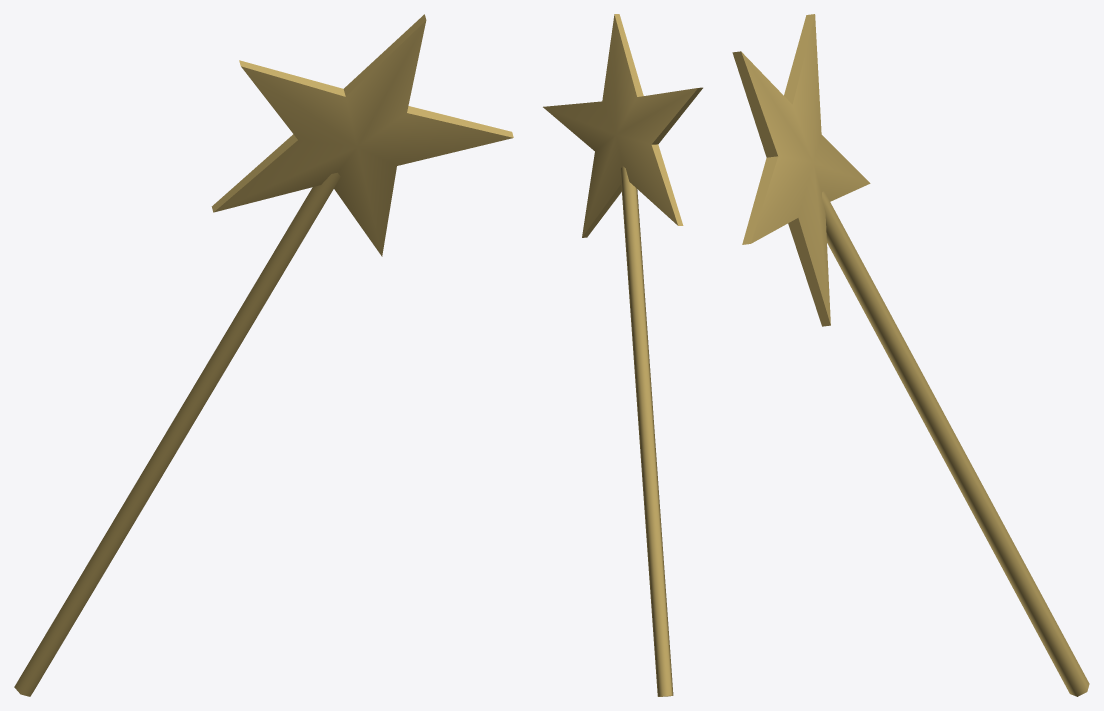
File: Asset_plateforme_baguette.fbx
The picture shows the model from 3 angles, left to right: view 1: azimuth 30°, elevation 25°; view 2: azimuth 150°, elevation 25°; view 3: azimuth 270°, elevation 25°; orthographic projection. The views are drawn at different scales.
Visible parts, largest first — view 1: PLATFROME_baguette; view 2: PLATFROME_baguette; view 3: PLATFROME_baguette.
Boxes of the visible parts, box(x1,y1,x2,y2) form: PLATFROME_baguette: box(14, 14, 513, 696); PLATFROME_baguette: box(543, 14, 702, 696); PLATFROME_baguette: box(732, 14, 1089, 696).
Size of the model in its own units: 1.48 by 3.13 by 1.34.
